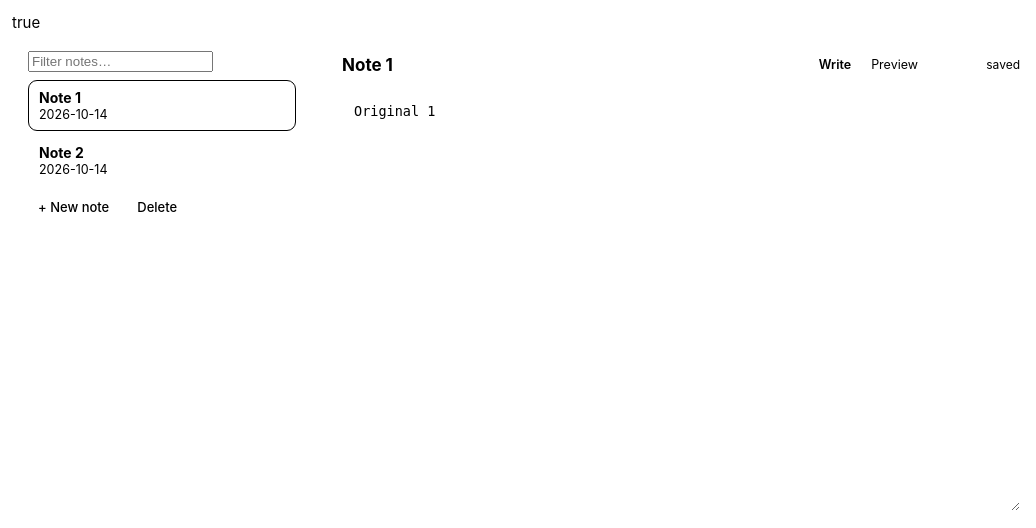
Test: Codex architect acceptance: durable note editing › keeps a deleted note removed when its already-running save finishes
Replace the text in the text box named "Note body (Markdown)" with "Pending save" at x=681, y=300, box top-left (342, 88), bottom-right (1020, 511)
Wait 1400 ms
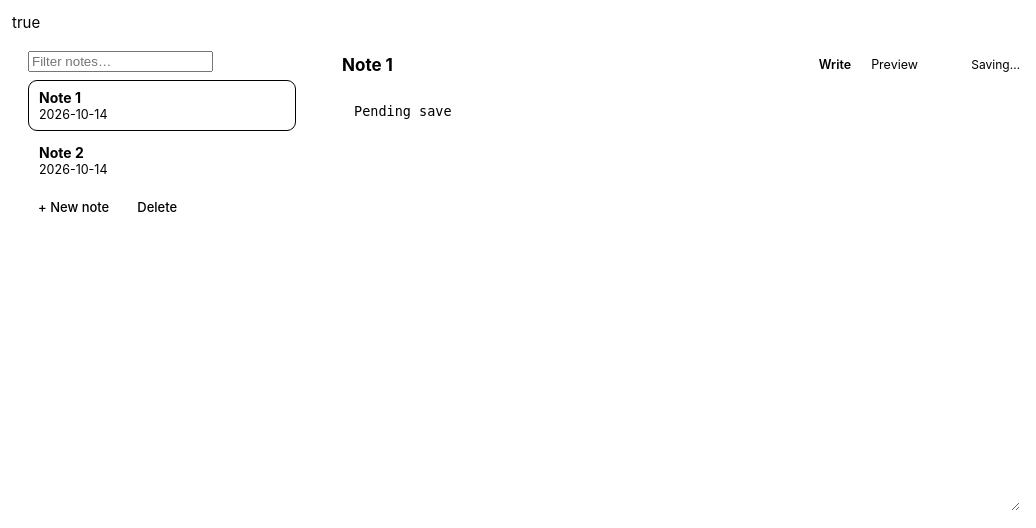
Click the button "Delete" at x=157, y=206, box top-left (127, 194), bottom-right (187, 220)
Wait 1400 ms
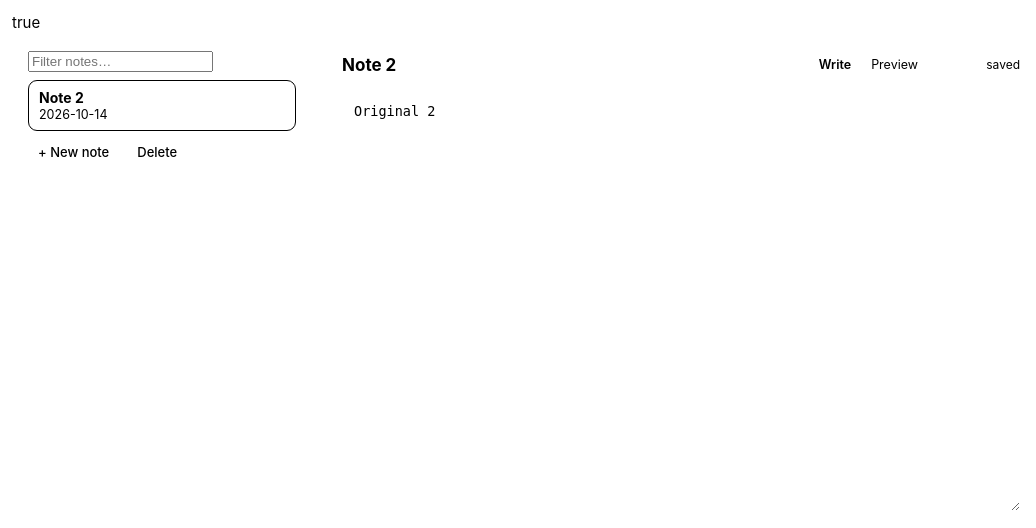
Now the text box named "Note body (Markdown)" holds "Original 2", box top-left (342, 88), bottom-right (1020, 511)
